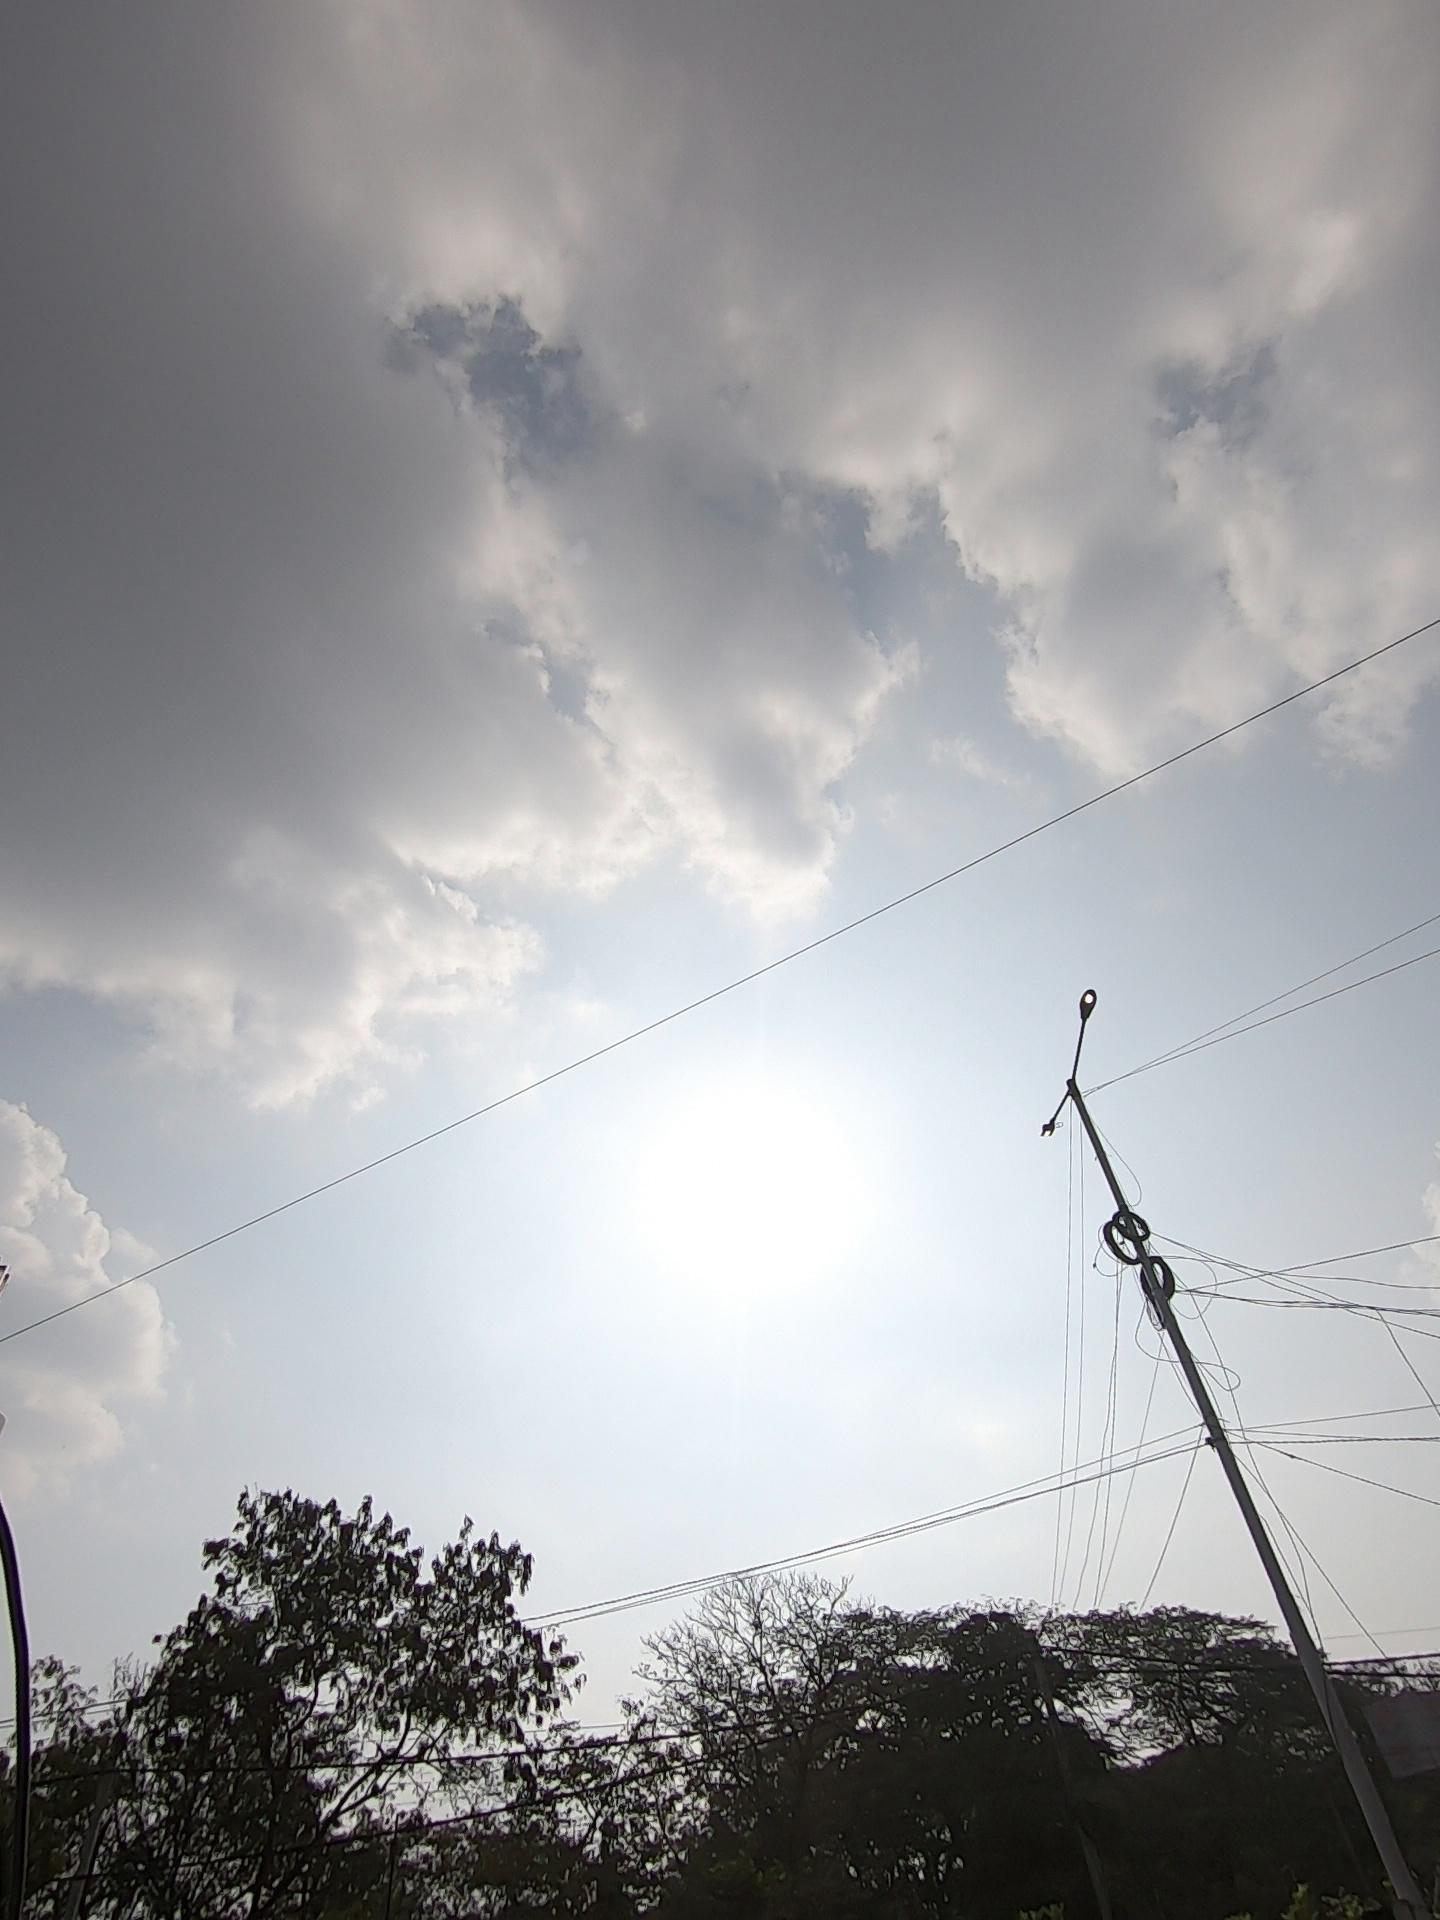off: (926, 966, 1171, 1199)
